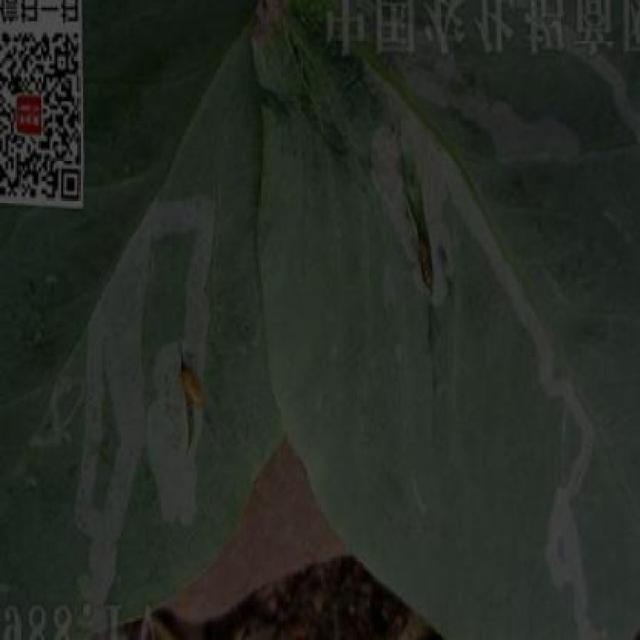whorl-maggot: (176, 354, 207, 420), (415, 230, 440, 302)
